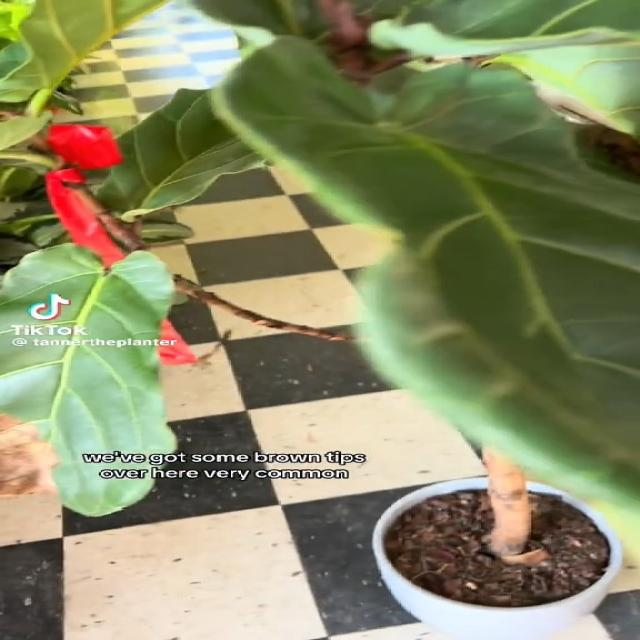lisc_suchy: (0, 243, 181, 518)
roslina_sucha: (91, 0, 640, 496)
